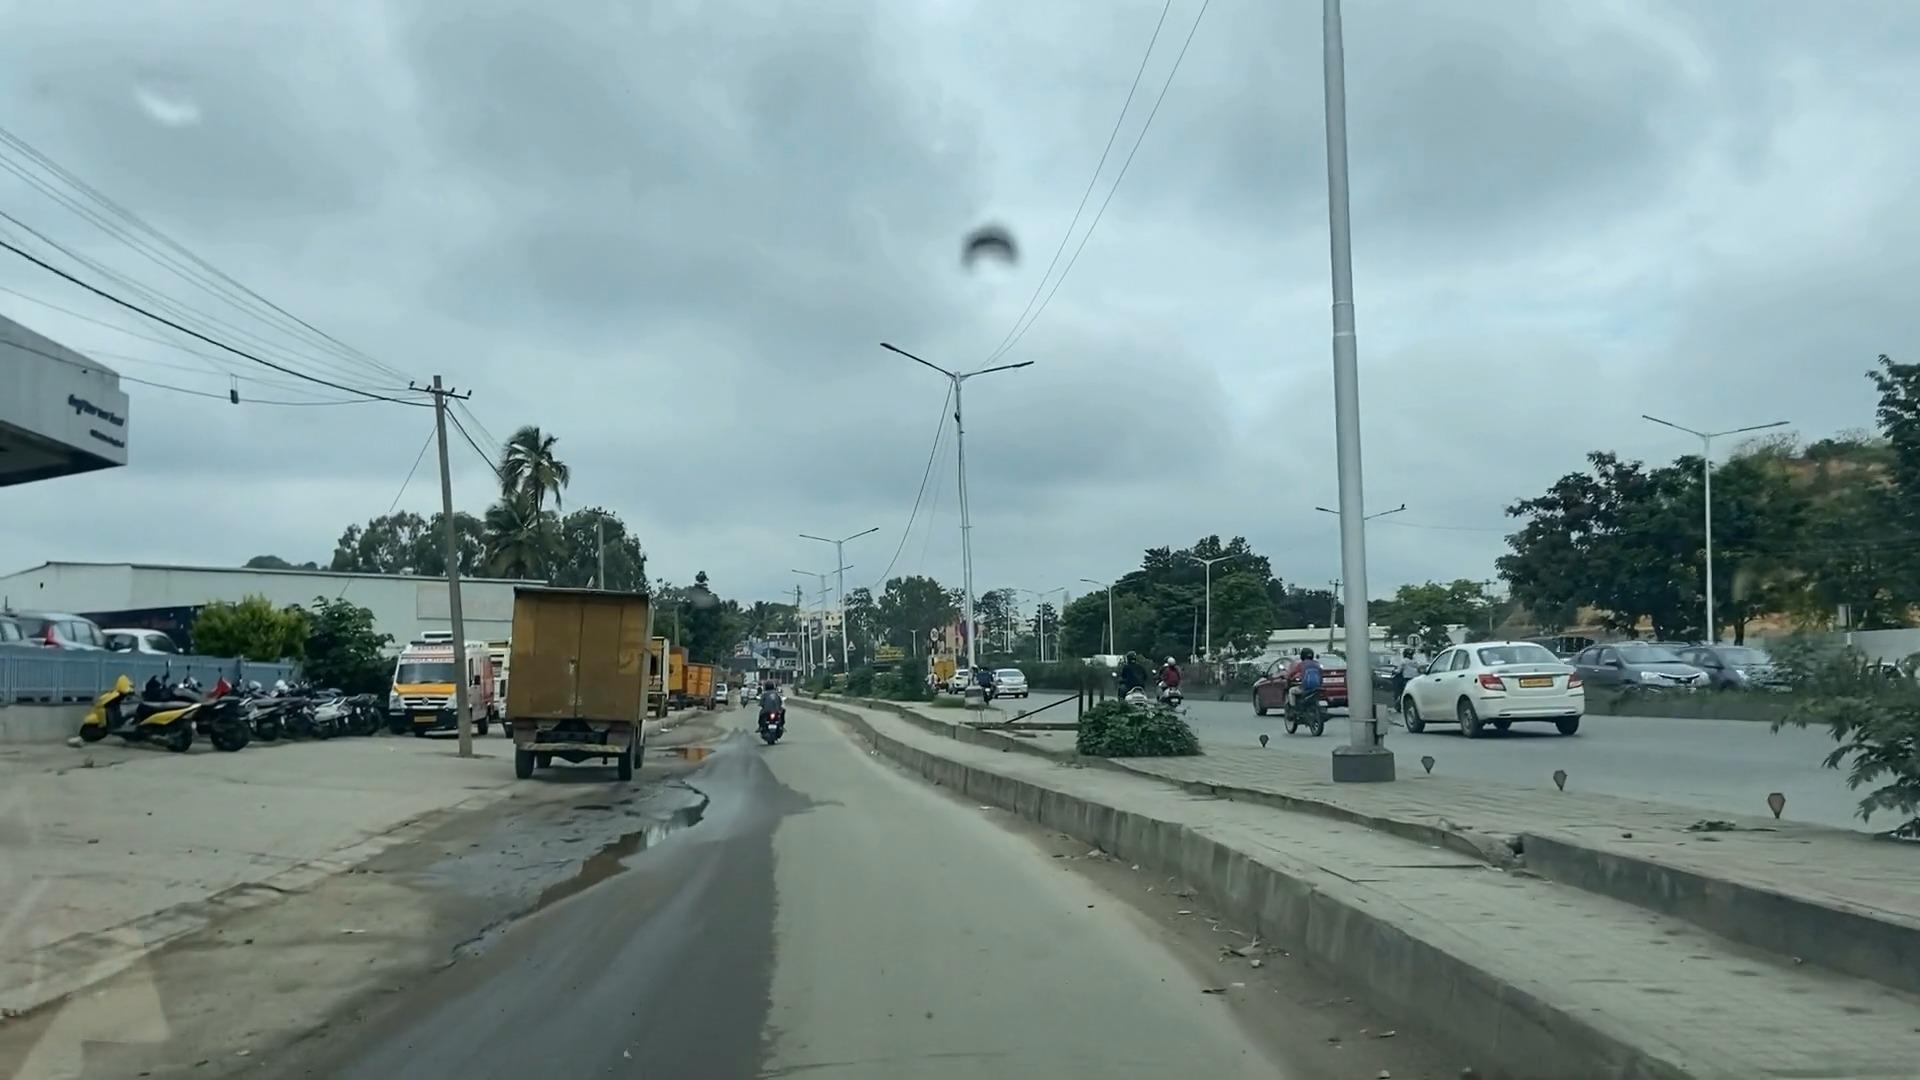HMV: (507, 587, 638, 775)
